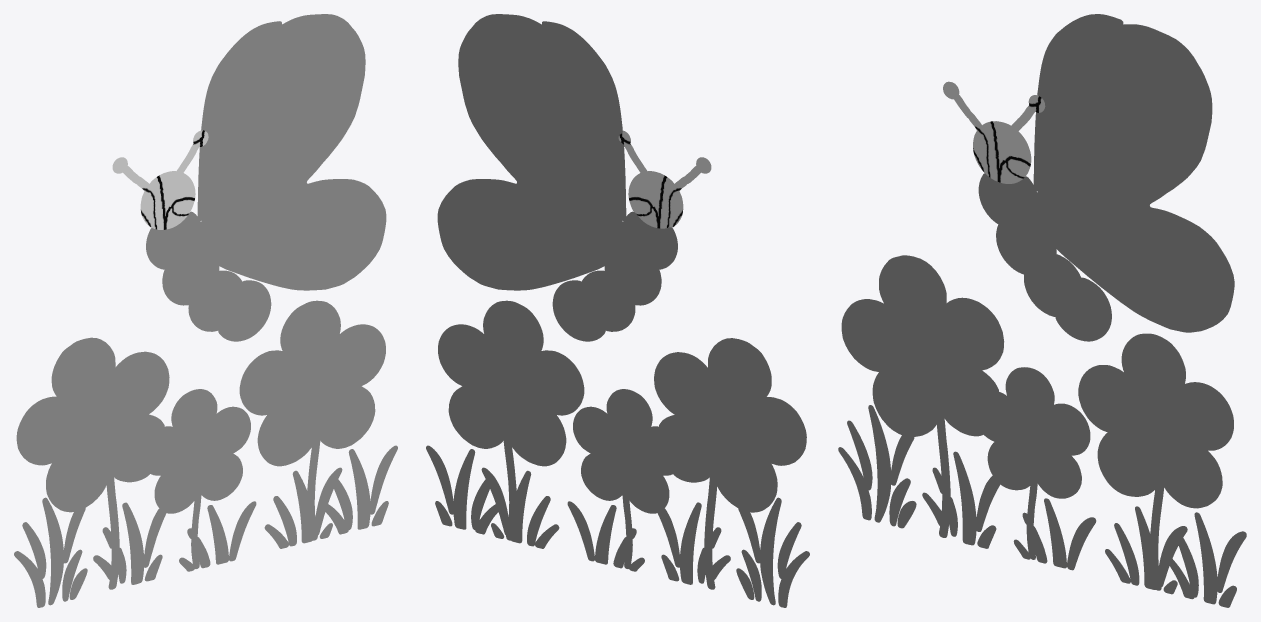
Rendered from IMG_5.fbx.
3 views of the same model, side by side, from view 1: azimuth 30°, elevation 25°; view 2: azimuth 150°, elevation 25°; view 3: azimuth 330°, elevation 25° (orthographic). The views are drawn at different scales.
Parts seen in each view (by area): view 1: IMG_11; view 2: IMG_11; view 3: IMG_11.
Boxes of the visible parts, box(x1,y1,x2,y2) form: IMG_11: box(14, 14, 397, 607); IMG_11: box(426, 14, 809, 607); IMG_11: box(838, 14, 1246, 607).
Size of the model in its own units: 14.8 by 19.5 by 0.0193.
